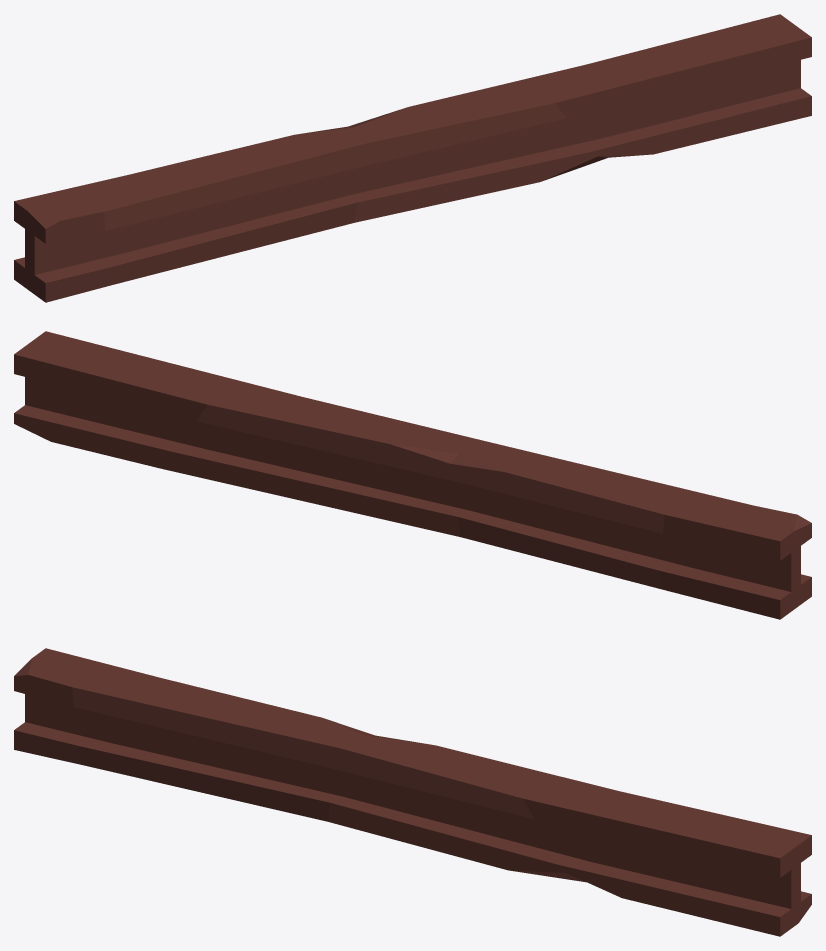
The model's file is SM_Prop_I_Beam_02.fbx.
The picture shows the model from 3 angles, top to bottom: view 1: azimuth 30°, elevation 25°; view 2: azimuth 150°, elevation 25°; view 3: azimuth 330°, elevation 25°; orthographic projection.
Visible parts, largest first — view 1: SM_Prop_I_Beam_02; view 2: SM_Prop_I_Beam_02; view 3: SM_Prop_I_Beam_02.
Boxes of the visible parts, box(x1,y1,x2,y2) form: SM_Prop_I_Beam_02: box(14, 14, 811, 302); SM_Prop_I_Beam_02: box(14, 331, 811, 619); SM_Prop_I_Beam_02: box(14, 648, 811, 936).
Size of the model in its own units: 200 by 19.56 by 14.34.
